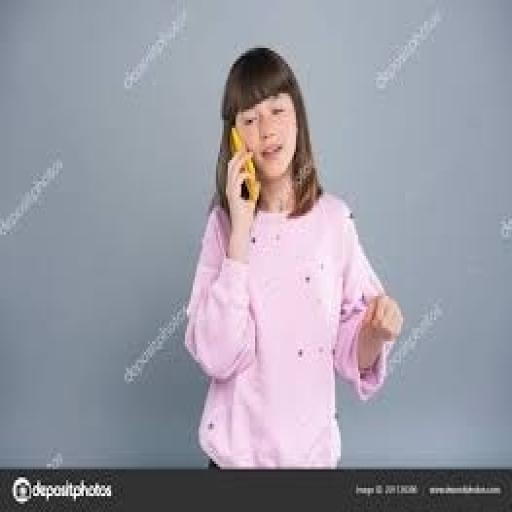calling: (181, 43, 405, 469)
